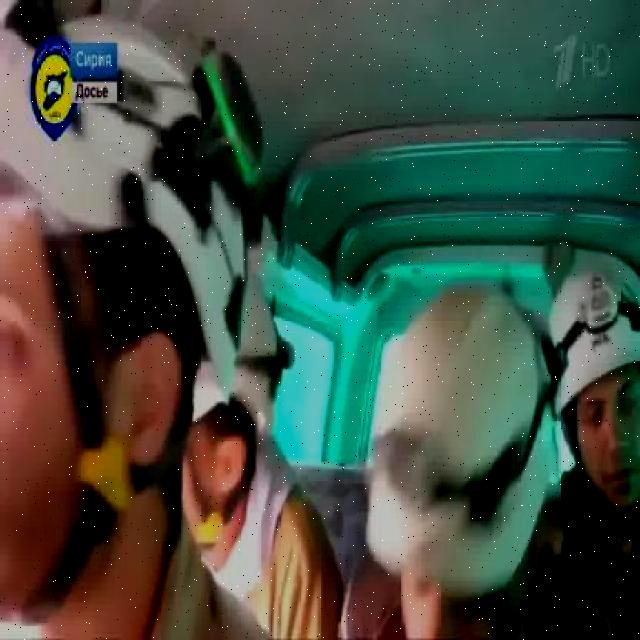Helmet: (0, 0, 251, 400), (362, 270, 555, 602), (192, 278, 292, 444), (548, 238, 636, 424)
